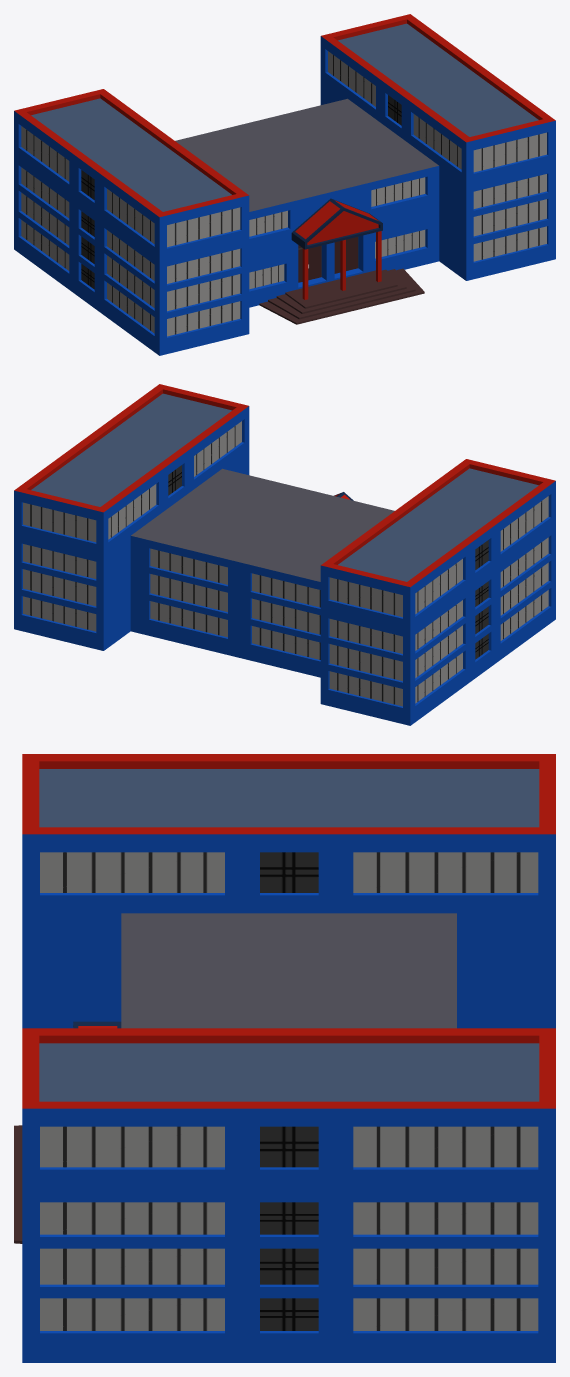
Rendered from building27b.FBX.
3 views of the same model, one above another, from view 1: azimuth 30°, elevation 25°; view 2: azimuth 150°, elevation 25°; view 3: azimuth 270°, elevation 25° (orthographic). The views are drawn at different scales.
Visible parts, largest first — view 1: building27b; view 2: building27b; view 3: building27b.
Boxes of the visible parts, x1,y1,x2,y2 form: building27b: (14, 14, 555, 355); building27b: (14, 384, 555, 725); building27b: (14, 754, 555, 1362).
Bounding box in the file's own units: 50 × 16.72 × 32.31.
